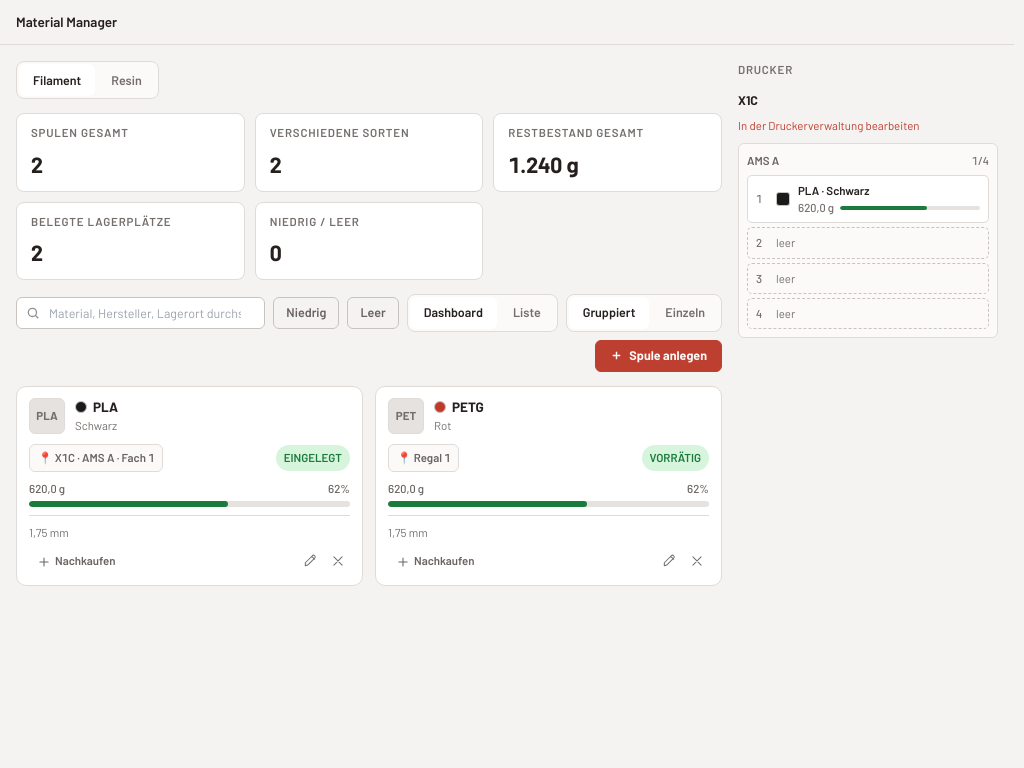
Test: FilamentView with printers › never offers resin for a printer slot
The image size is (1024, 768).
Click the button with test id "slot-u1-2" at (868, 278), box 747,262 -> 989,294
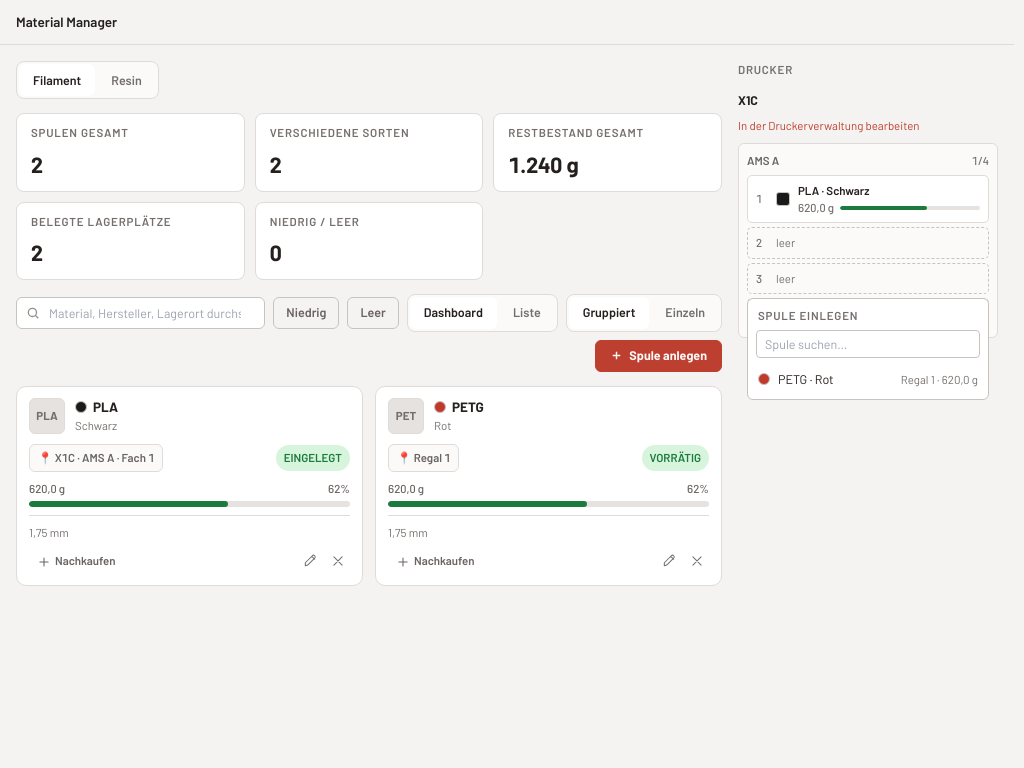
expect the text "PETG · Rot" is shown: met, box 778,371 -> 834,387
